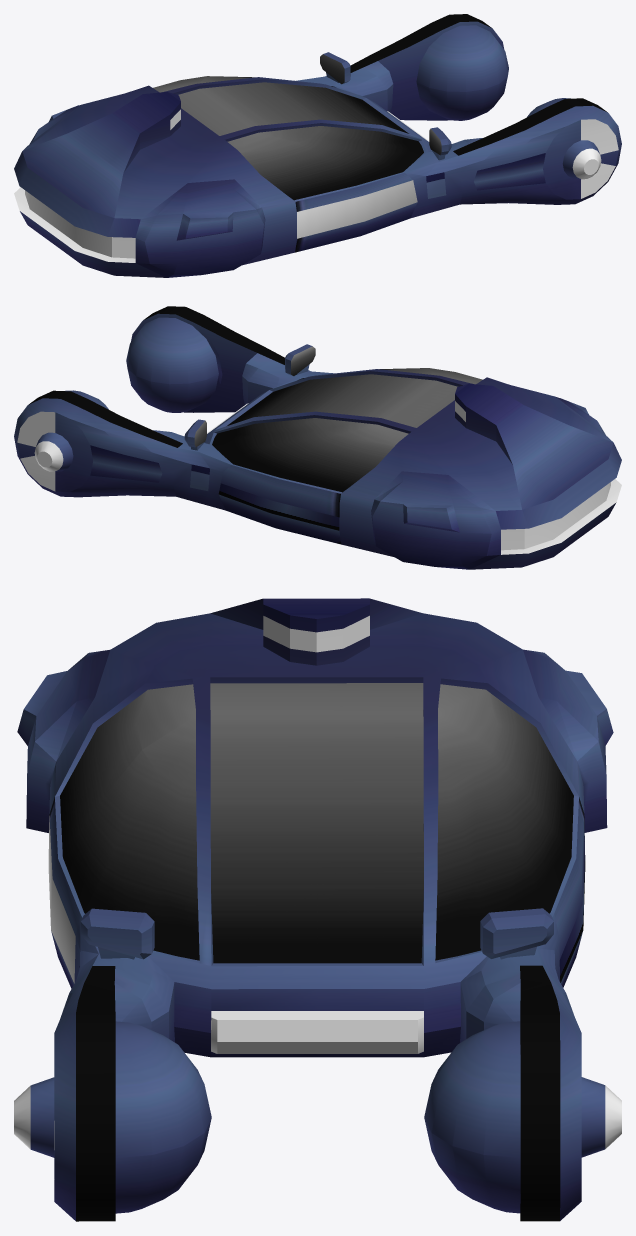
The model's file is carrobr.obj.
3 renders of one model, top to bottom at view 1: azimuth 30°, elevation 25°; view 2: azimuth 150°, elevation 25°; view 3: azimuth 270°, elevation 25°, orthographic. The views are drawn at different scales.
Parts seen in each view (by area): view 1: _2.001_Material.002; view 2: _2.001_Material.002; view 3: _2.001_Material.002.
Part boxes in pixels (box(x1,y1,x2,y2)): _2.001_Material.002: box(14, 14, 621, 277); _2.001_Material.002: box(14, 306, 621, 569); _2.001_Material.002: box(14, 598, 621, 1221).
Bounding box in the file's own units: 10.4 × 2.81 × 5.54.
